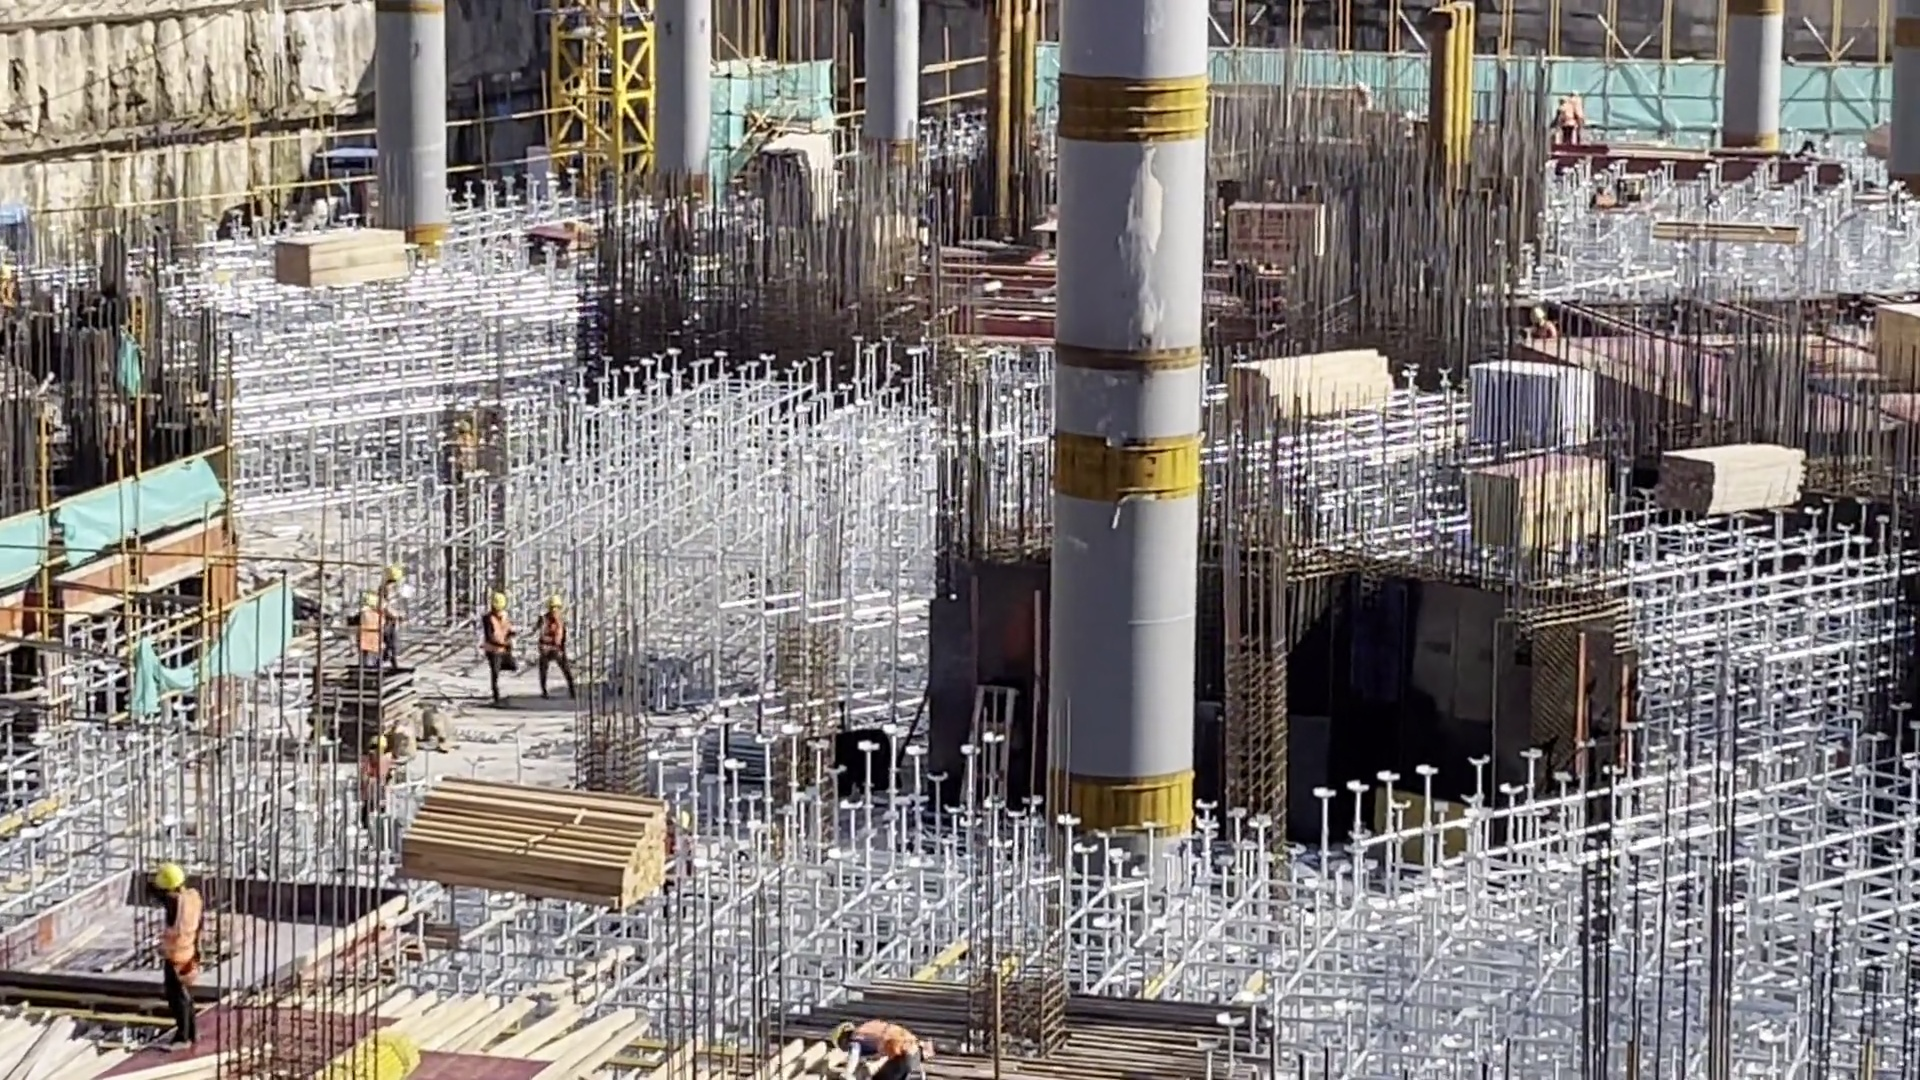helmet: (155, 864, 187, 890), (488, 592, 505, 610), (547, 595, 562, 608)
person: (151, 862, 204, 1054), (520, 595, 576, 702), (831, 1019, 920, 1080), (354, 566, 401, 670), (483, 592, 519, 707), (362, 734, 392, 831), (1549, 96, 1577, 147), (450, 419, 474, 475), (1530, 308, 1558, 339), (1570, 91, 1585, 147), (1590, 184, 1613, 208)
vest: (162, 888, 201, 965), (485, 611, 510, 663), (537, 614, 566, 659)
